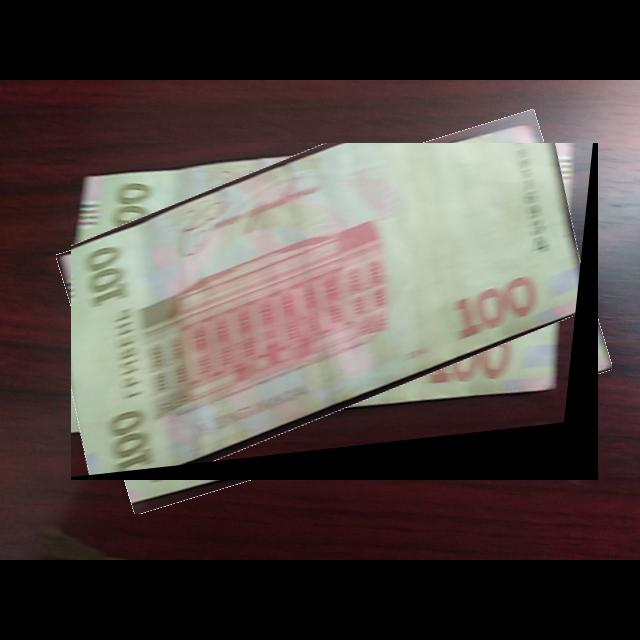100uah: (71, 143, 599, 481)
